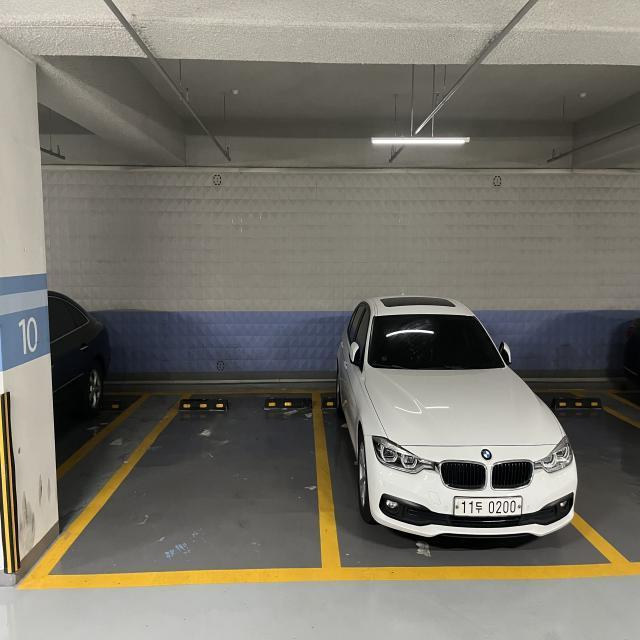Car: (342, 261, 596, 564)
Vacant: (41, 391, 327, 590)
